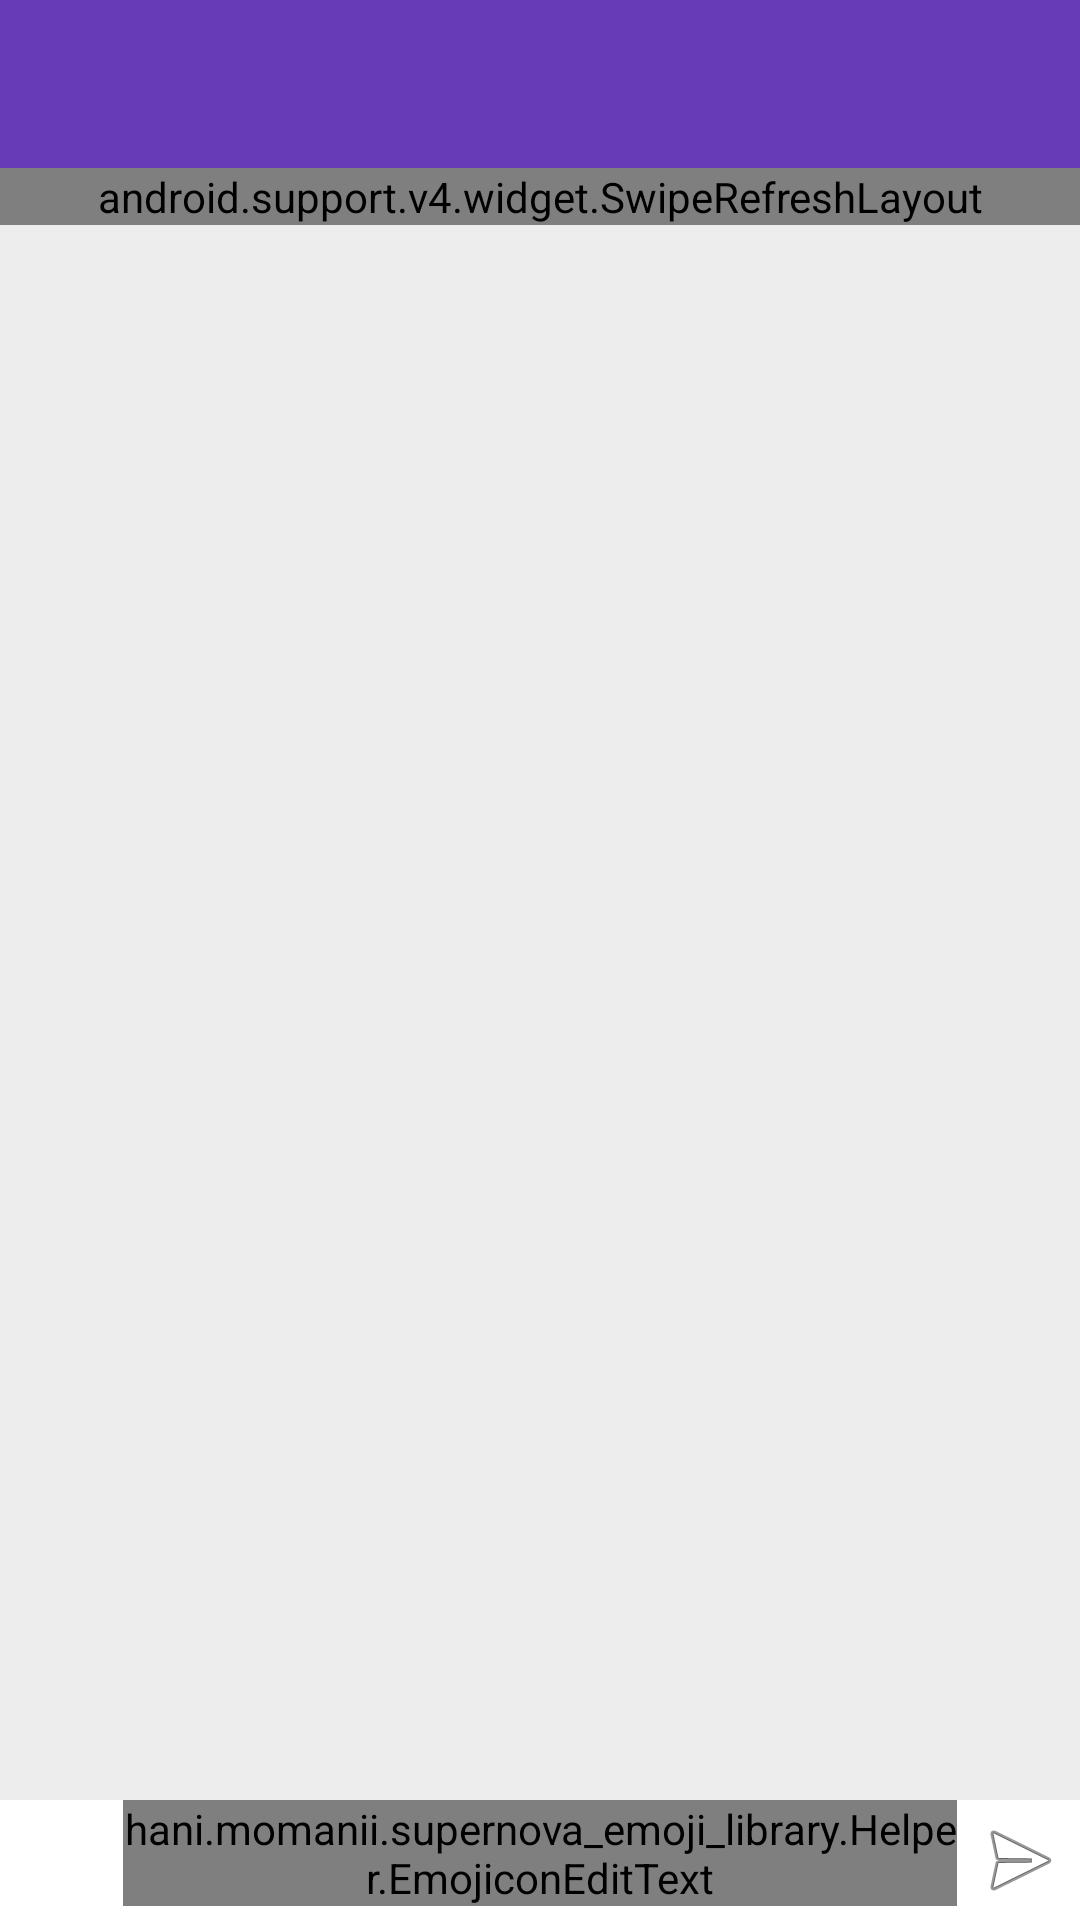

Where to tap for icons on this 1080 x 1920 app screen, as [x,y]:
send: [1021,1860]
